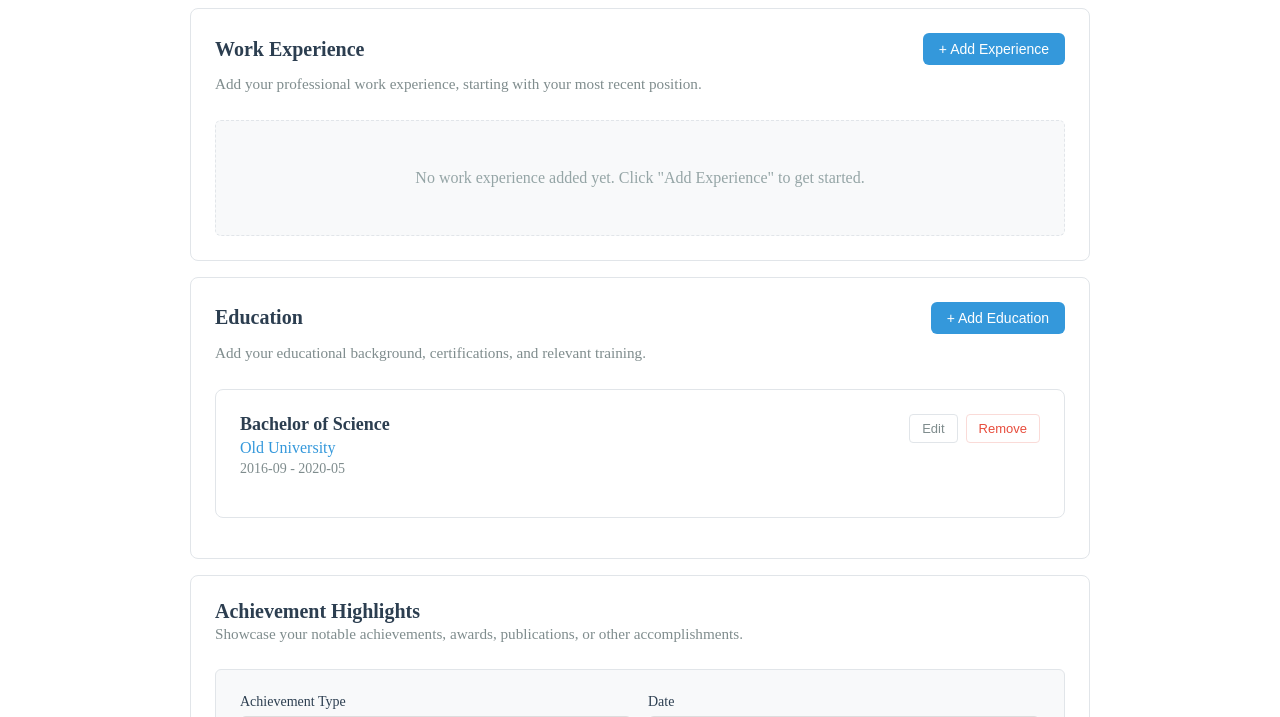
Test case: ExperienceStep Component › Education Management › allows editing existing education
The width and height of the screenshot is (1280, 717).
Click the button "Edit" at point(933, 428), box 909,414 -> 958,443
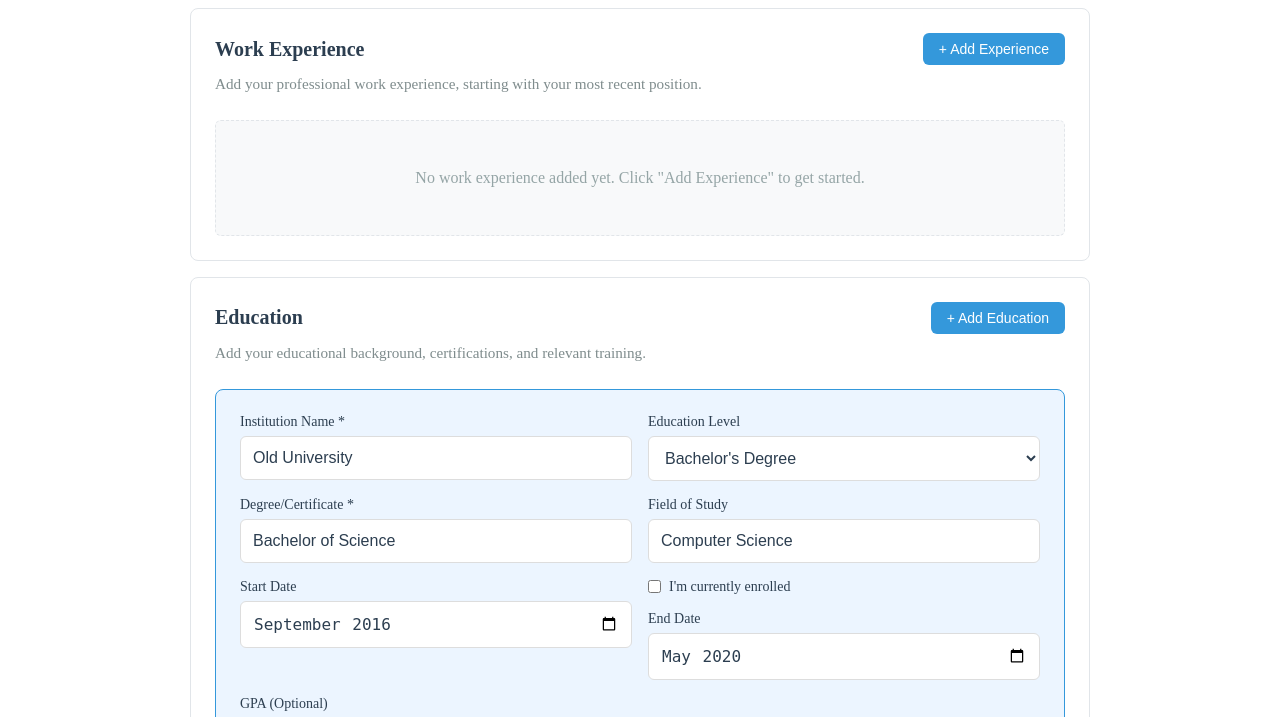
Expected: the field showing "Old University" below "Institution Name *" is shown, 240,436 -> 632,480
Expected: the field showing "Bachelor of Science" below "Degree/Certificate *" is shown, 240,519 -> 632,563
